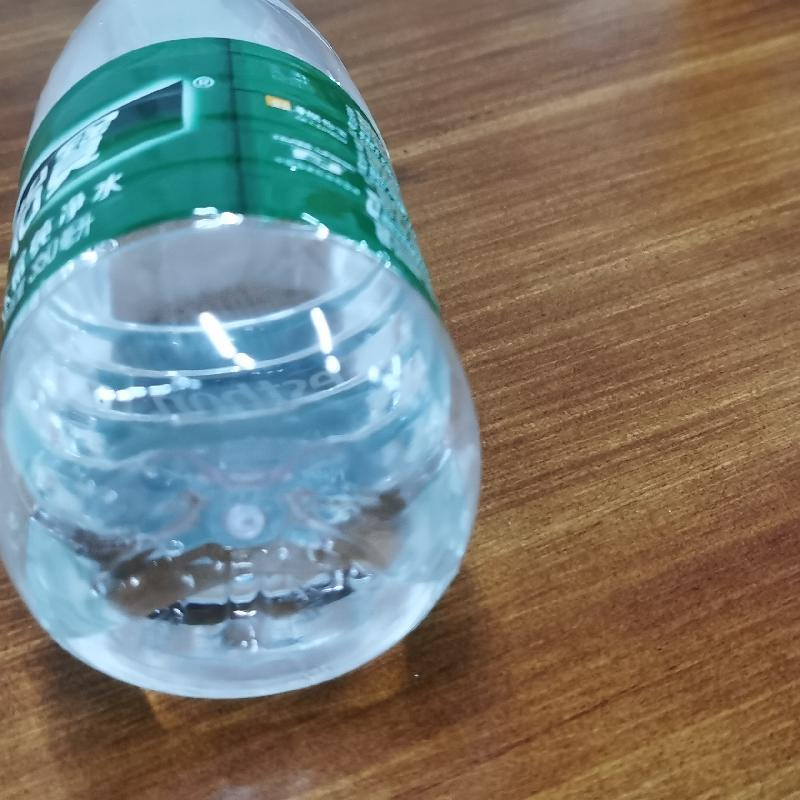bottles: (5, 1, 484, 702)
